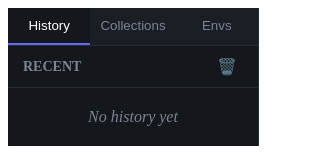
it: Sidebar › should switch between History, Collections and Environments tabs
The image size is (320, 163).
Click the button "Collections" at (133, 26), box [90,8,176,45]
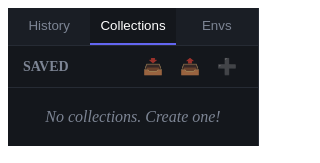
Now the button titled "New Collection" is shown, box [211,56,243,77]
Click the button "Envs" at (217, 26), box [176,8,258,45]
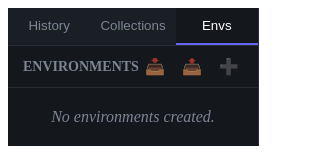
Now the button titled "New Environment" is shown, box [213,56,245,77]
Click the button "History" at (49, 26), box [8,8,90,45]
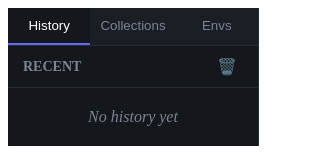
Now the button titled "Clear History" is shown, box [211,56,243,77]
